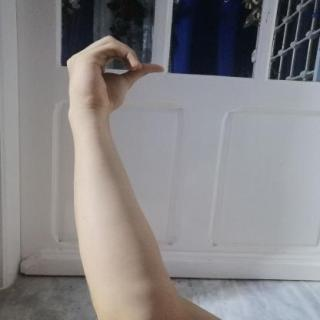WAW: (58, 31, 174, 126)
